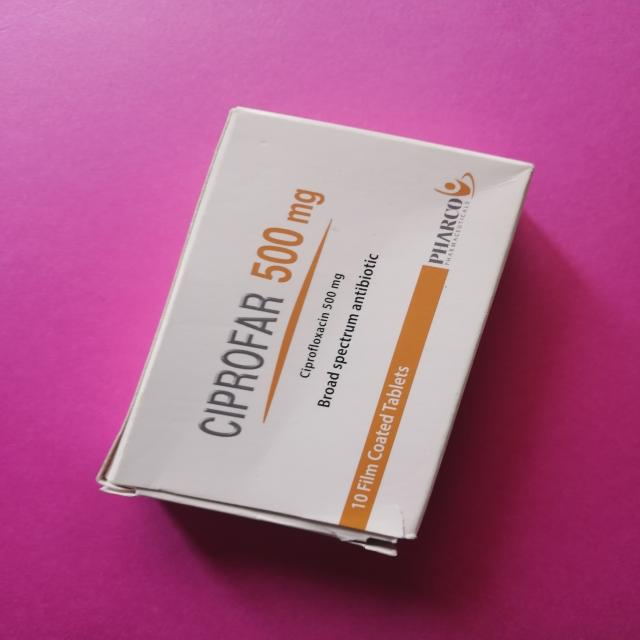Medicine: (100, 105, 534, 554)
